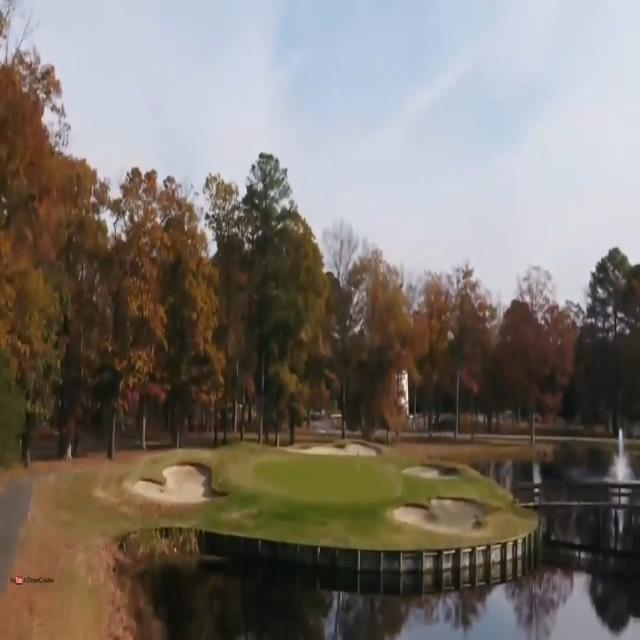Pole: (353, 446, 367, 494)
